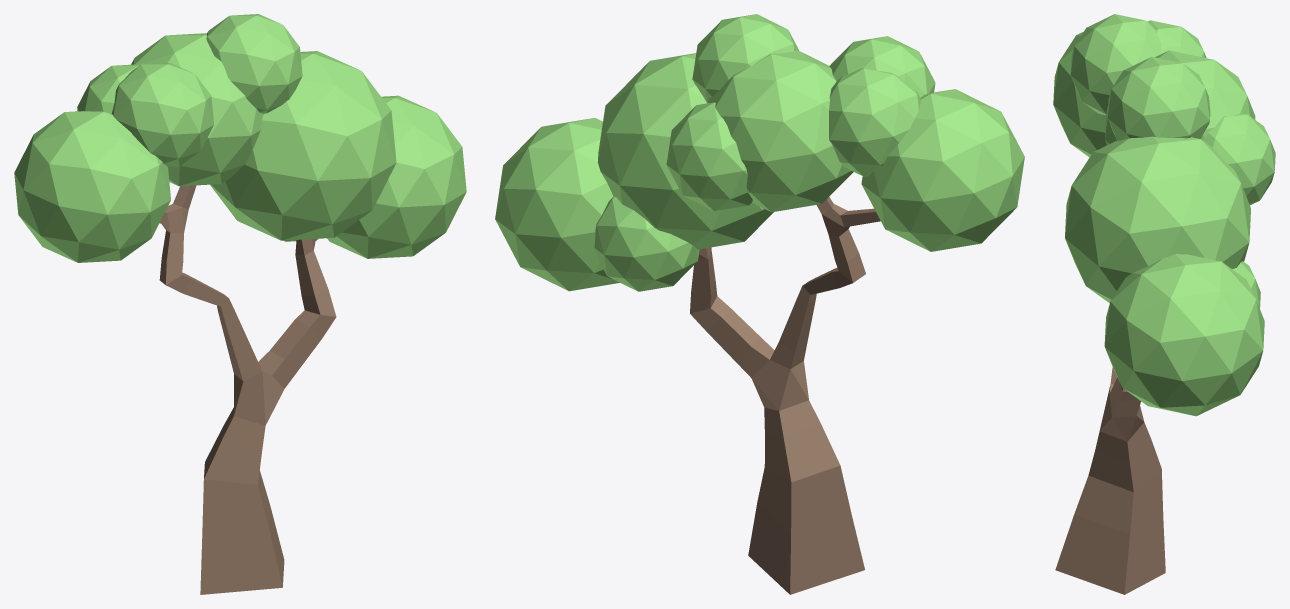
The model's file is tree 1.fbx.
3 views of the same model, side by side, from view 1: azimuth 30°, elevation 25°; view 2: azimuth 150°, elevation 25°; view 3: azimuth 270°, elevation 25° (orthographic). The views are drawn at different scales.
Parts seen in each view (by area): view 1: tree 1; view 2: tree 1; view 3: tree 1.
Boxes of the visible parts, left/top/right/bottom form: tree 1: left=14, top=14, right=466, bottom=594; tree 1: left=495, top=14, right=1024, bottom=594; tree 1: left=1053, top=14, right=1275, bottom=594.
Size of the model in its own units: 1615 by 1817 by 689.
